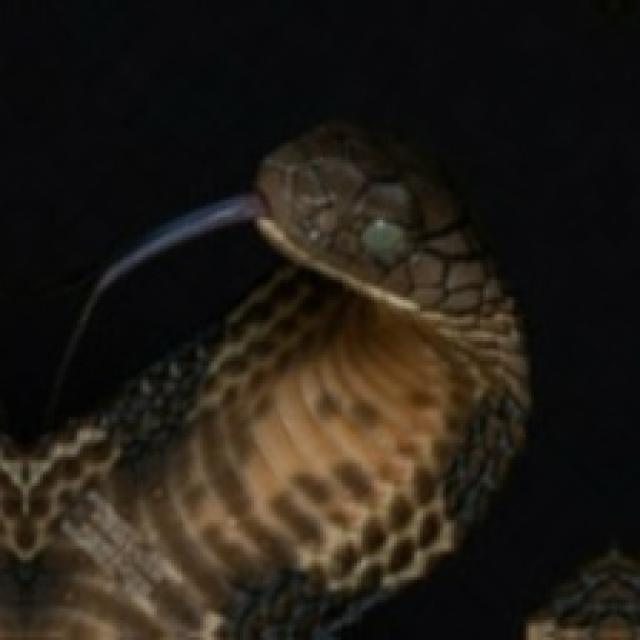king cobra: (0, 126, 526, 637)
